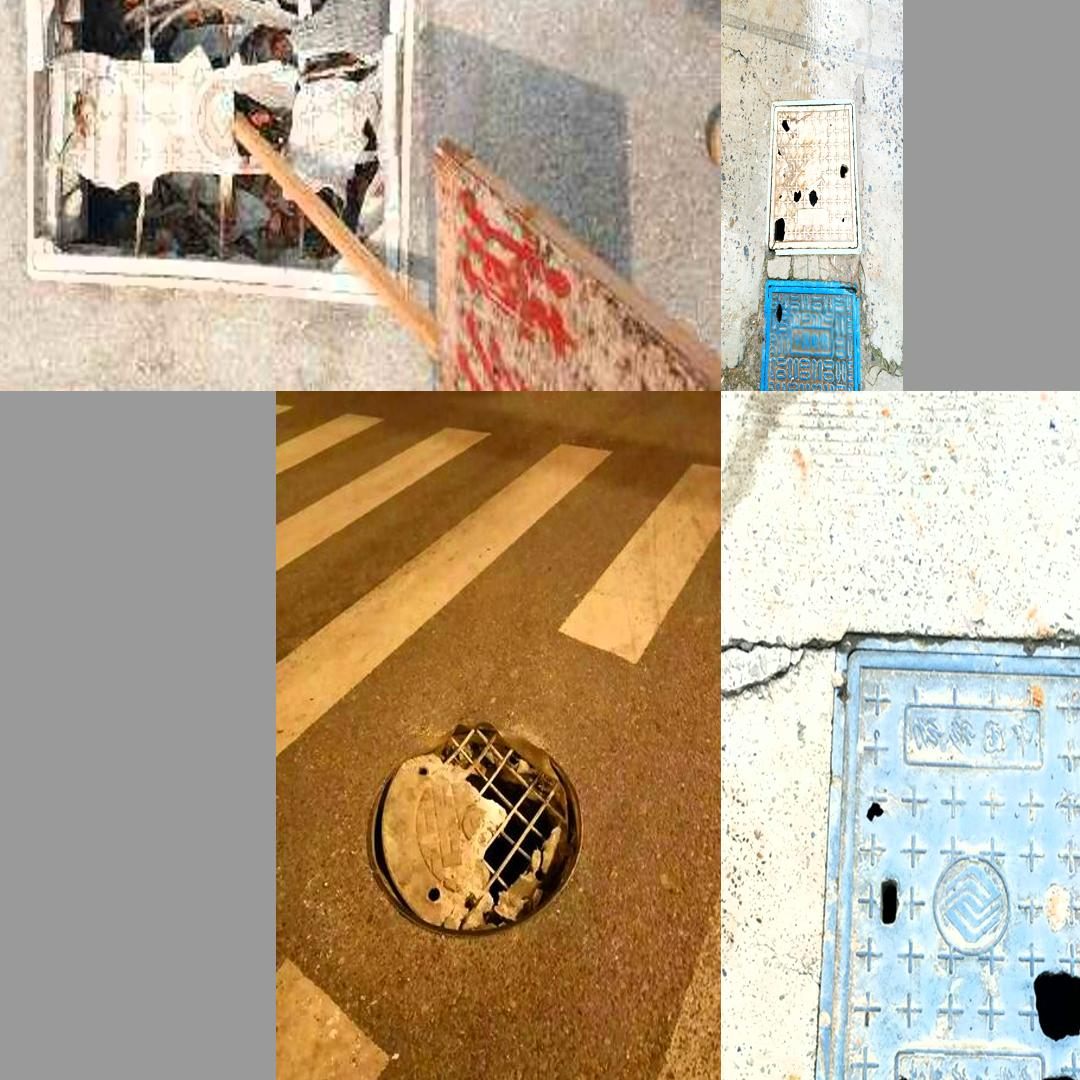broke: (812, 635, 1080, 1080), (21, 0, 411, 303), (353, 710, 596, 946), (767, 98, 861, 257)
